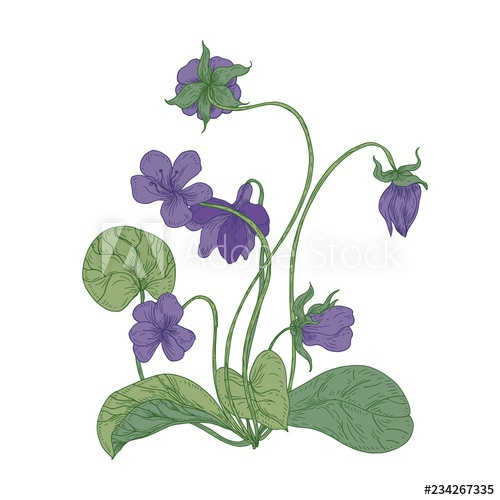violet: (166, 42, 244, 133), (121, 150, 217, 219), (364, 150, 434, 240), (195, 181, 269, 261), (281, 296, 365, 359), (125, 295, 203, 358)
